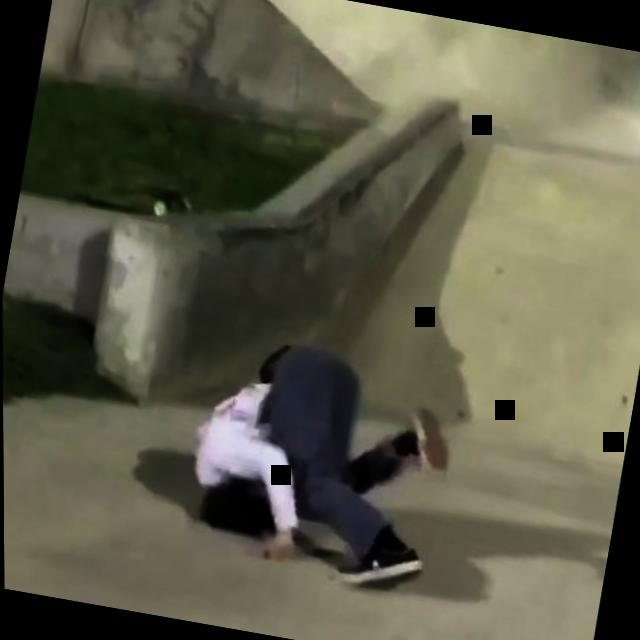Fall-Detected: (163, 317, 467, 589)
